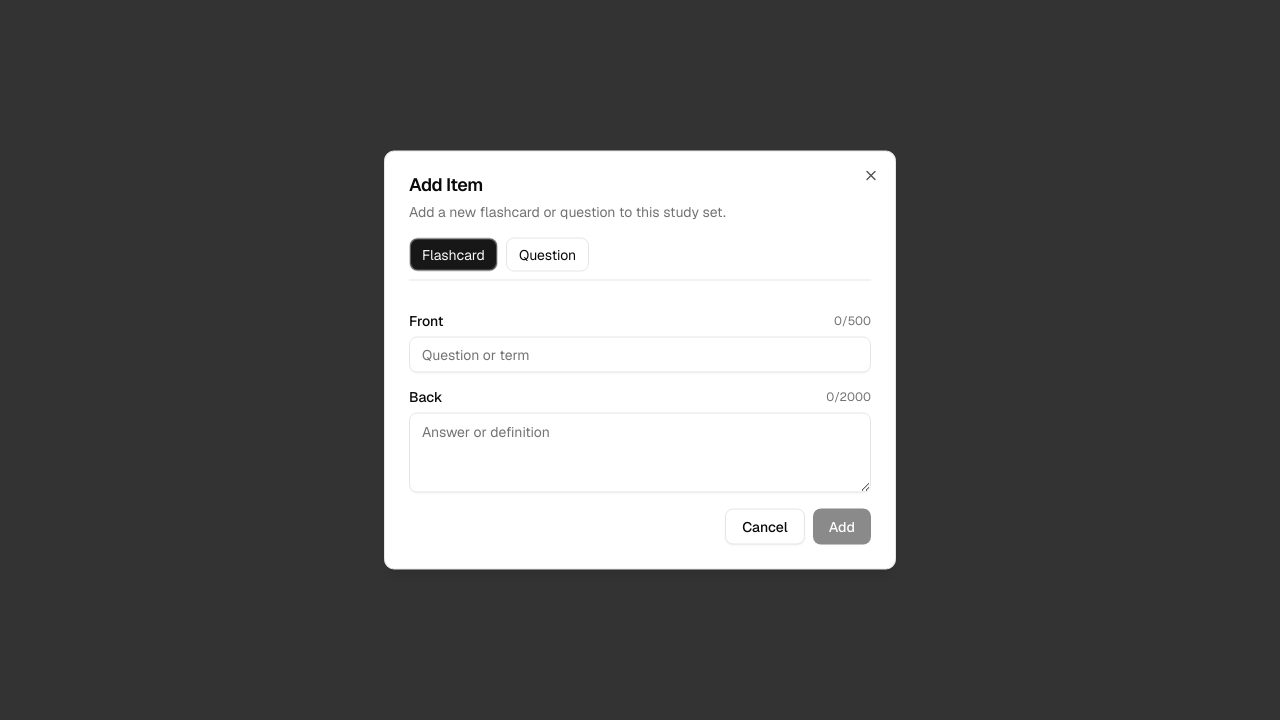
AddItemModal › flashcard form › shows error when submission fails
Type "Some question" into the field labelled "Front". click: (640,354)
box: [409, 336, 871, 372]
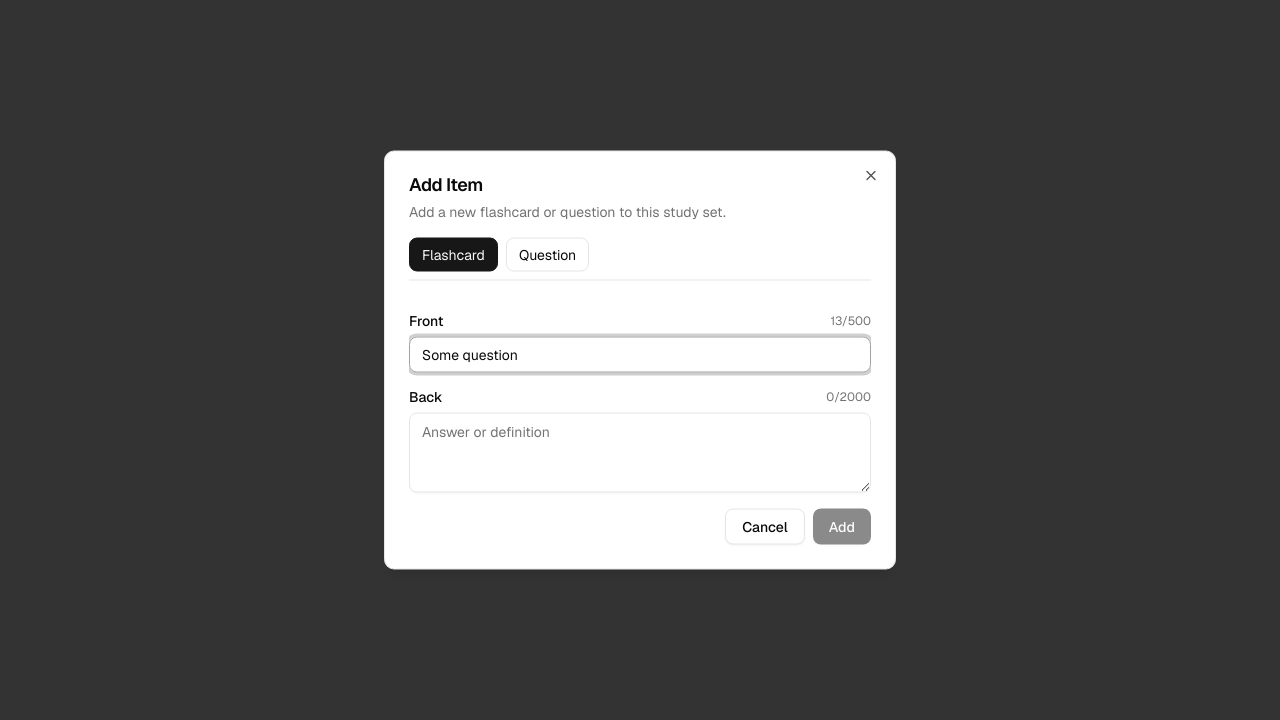
Type "Answer" into the text box labelled "Back". click: (640,452)
box: [409, 412, 871, 492]
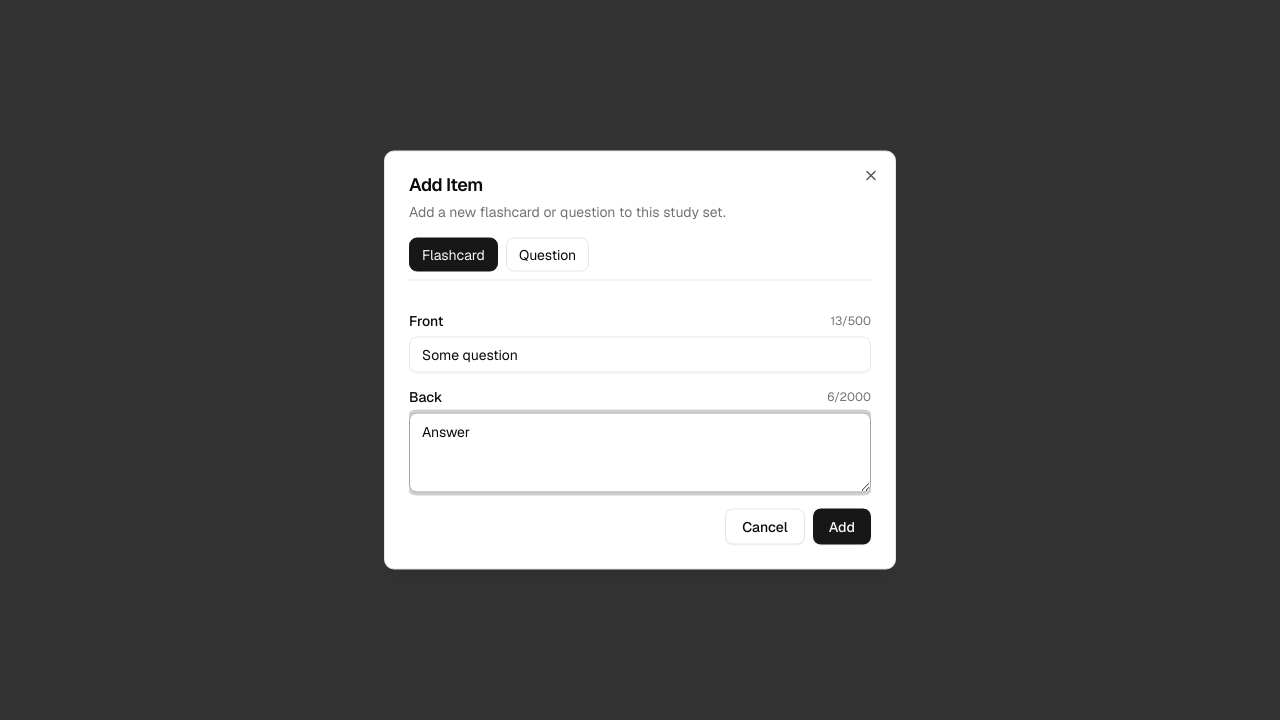
Click the button "Add". click: (842,526)
box: [813, 508, 871, 544]
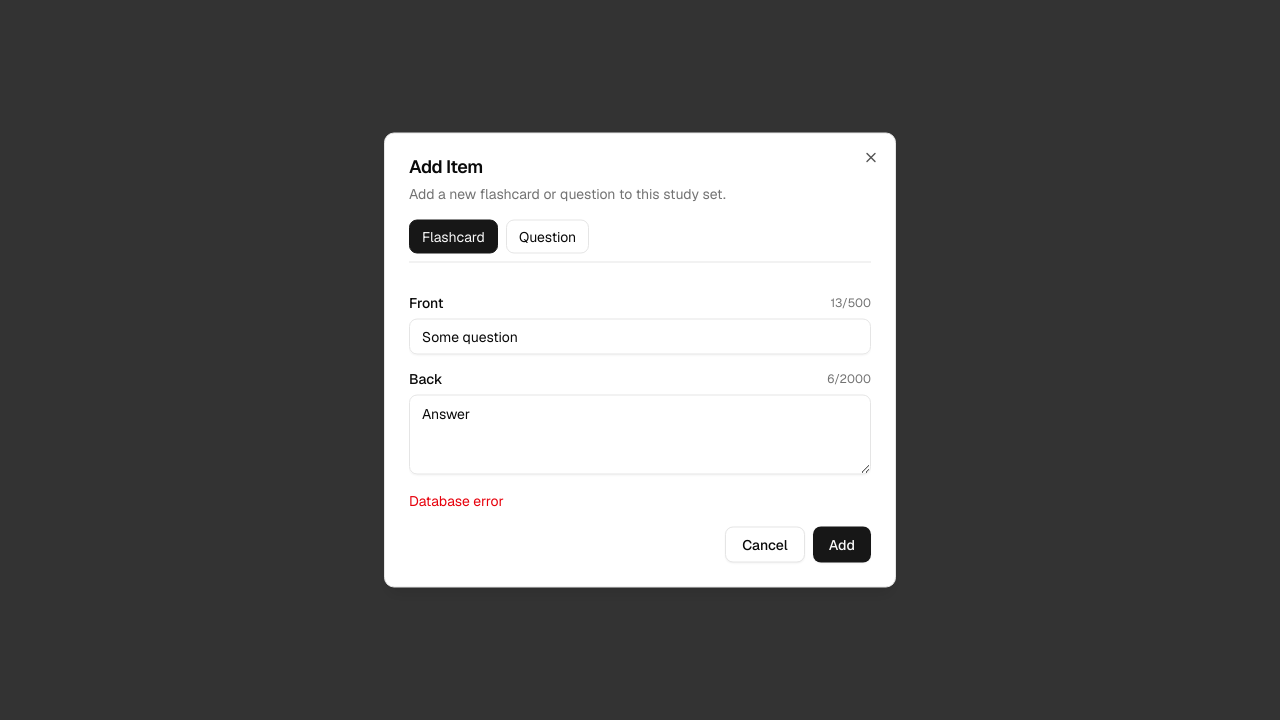
expect the text "Database error" is shown: met, box [409, 492, 504, 510]
